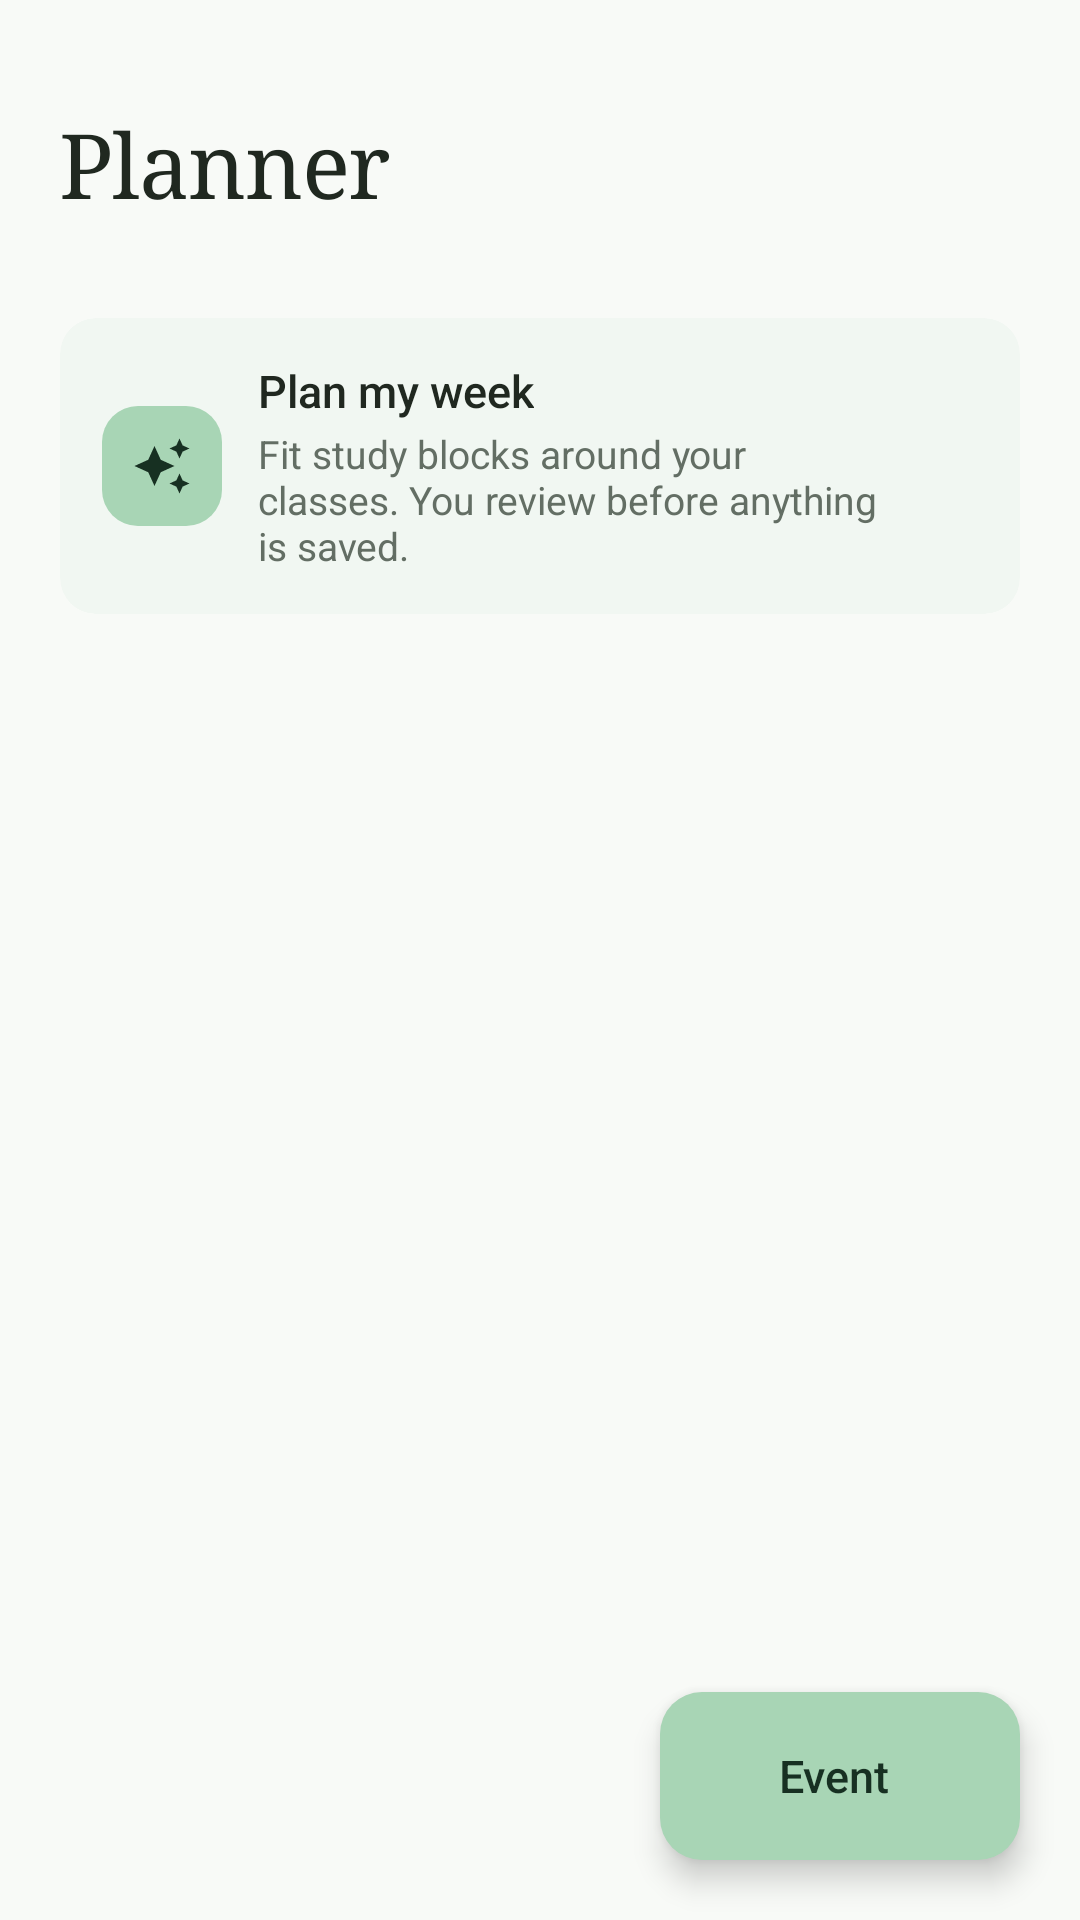

Point at icon controls on the screen. Image size 1080x1920, points as [x,y].
sparkle: [162,466]
